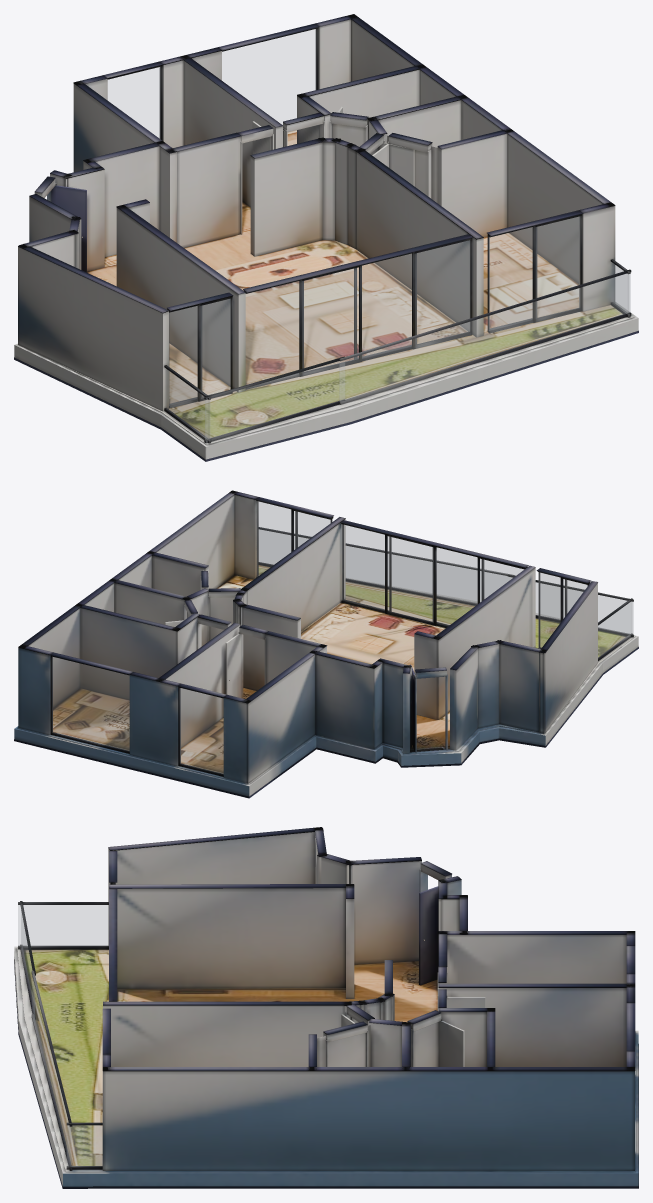
3 views of the same model, one above another, from view 1: azimuth 30°, elevation 25°; view 2: azimuth 150°, elevation 25°; view 3: azimuth 270°, elevation 25° (orthographic). The views are drawn at different scales.
Parts seen in each view (by area): view 1: plan, glass2_m, railg2_m, glass3_m, glass1_m, railg3_m, glass4_m, glass0_m, railg1_m, railg0_m; view 2: plan, glass2_m, glass1_m, railg2_m, glass0_m, glass3_m, railg3_m, glass4_m, railg1_m; view 3: plan, railg1_m, railg0_m, railg2_m.
Boxes of the visible parts, bbox=[...] form: plan: bbox=[14, 14, 638, 461]; glass2_m: bbox=[246, 240, 469, 384]; railg2_m: bbox=[339, 274, 630, 401]; glass3_m: bbox=[489, 216, 579, 329]; glass1_m: bbox=[222, 29, 316, 124]; railg3_m: bbox=[205, 360, 344, 439]; glass4_m: bbox=[169, 299, 230, 404]; glass0_m: bbox=[108, 67, 160, 138]; railg1_m: bbox=[165, 369, 209, 439]; railg0_m: bbox=[612, 263, 629, 314]; plan: bbox=[14, 490, 638, 798]; glass2_m: bbox=[342, 524, 523, 625]; glass1_m: bbox=[52, 657, 129, 750]; railg2_m: bbox=[259, 530, 507, 602]; glass0_m: bbox=[180, 688, 223, 773]; glass3_m: bbox=[257, 501, 330, 576]; railg3_m: bbox=[508, 577, 633, 634]; glass4_m: bbox=[538, 572, 587, 648]; railg1_m: bbox=[598, 602, 631, 657]; plan: bbox=[14, 827, 638, 1188]; railg1_m: bbox=[18, 905, 108, 945]; railg0_m: bbox=[67, 1125, 102, 1166]; railg2_m: bbox=[32, 978, 70, 1165].
Bounding box in the file's own units: 11.92 × 2.62 × 12.76.
Materials: 2 (1 with a texture image).
